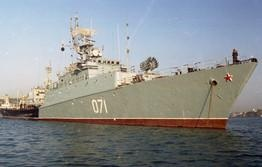warship: (2, 21, 261, 126)
